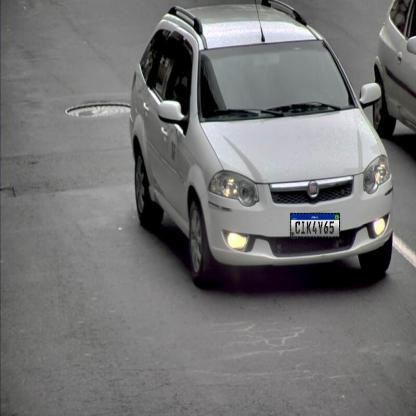PlacaM: (290, 213, 340, 238)
